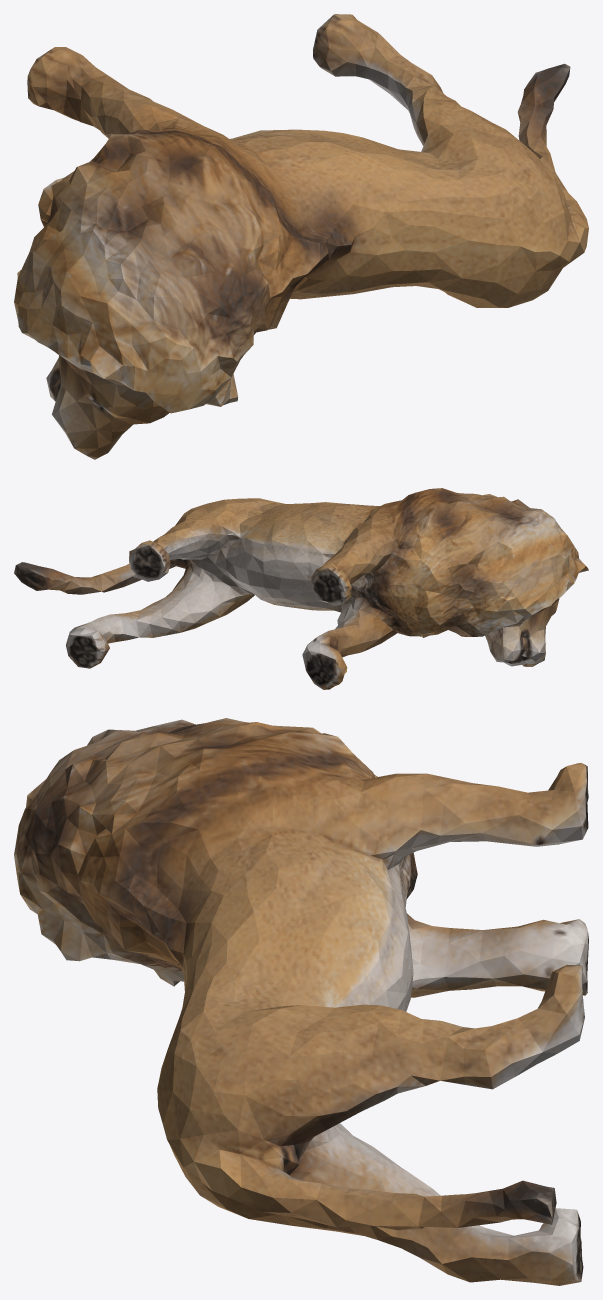
3 renders of one model, top to bottom at view 1: azimuth 30°, elevation 25°; view 2: azimuth 150°, elevation 25°; view 3: azimuth 270°, elevation 25°, orthographic. The views are drawn at different scales.
Size of the model in its own units: 0.115 by 0.0413 by 0.0705.
1 material, 1 textured.
